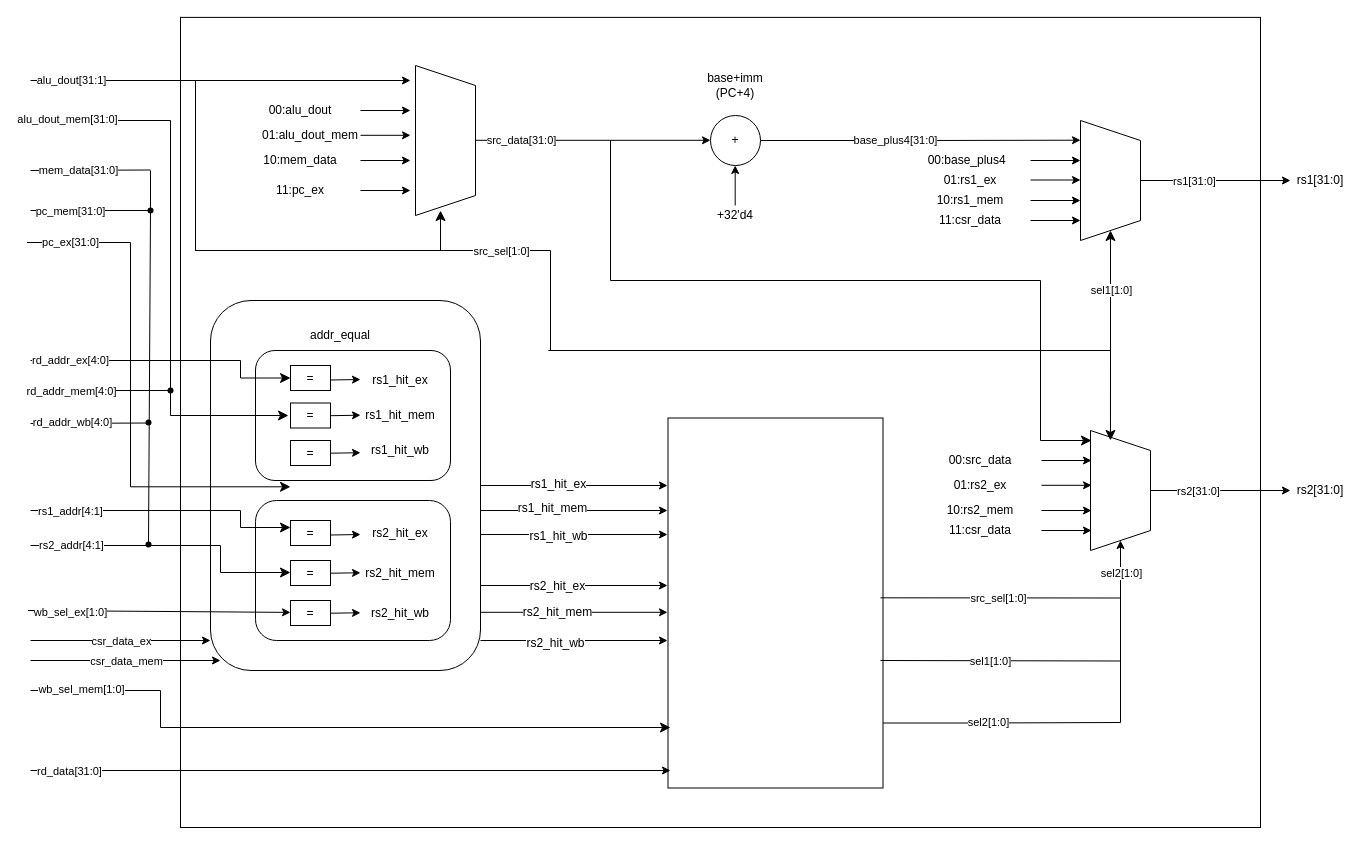
Some shapes in this 1368 by 846 pixel diagram are drawn without their labels. Here are the shapes that lost their labels. From the top down, the box of each, then its label:
(414, 64, 476, 216): src_data mux
(1080, 120, 1140, 240): rs1 mux
(1090, 430, 1150, 550): rs2 mux
(667, 417, 883, 788): sel_gen (forward control)
